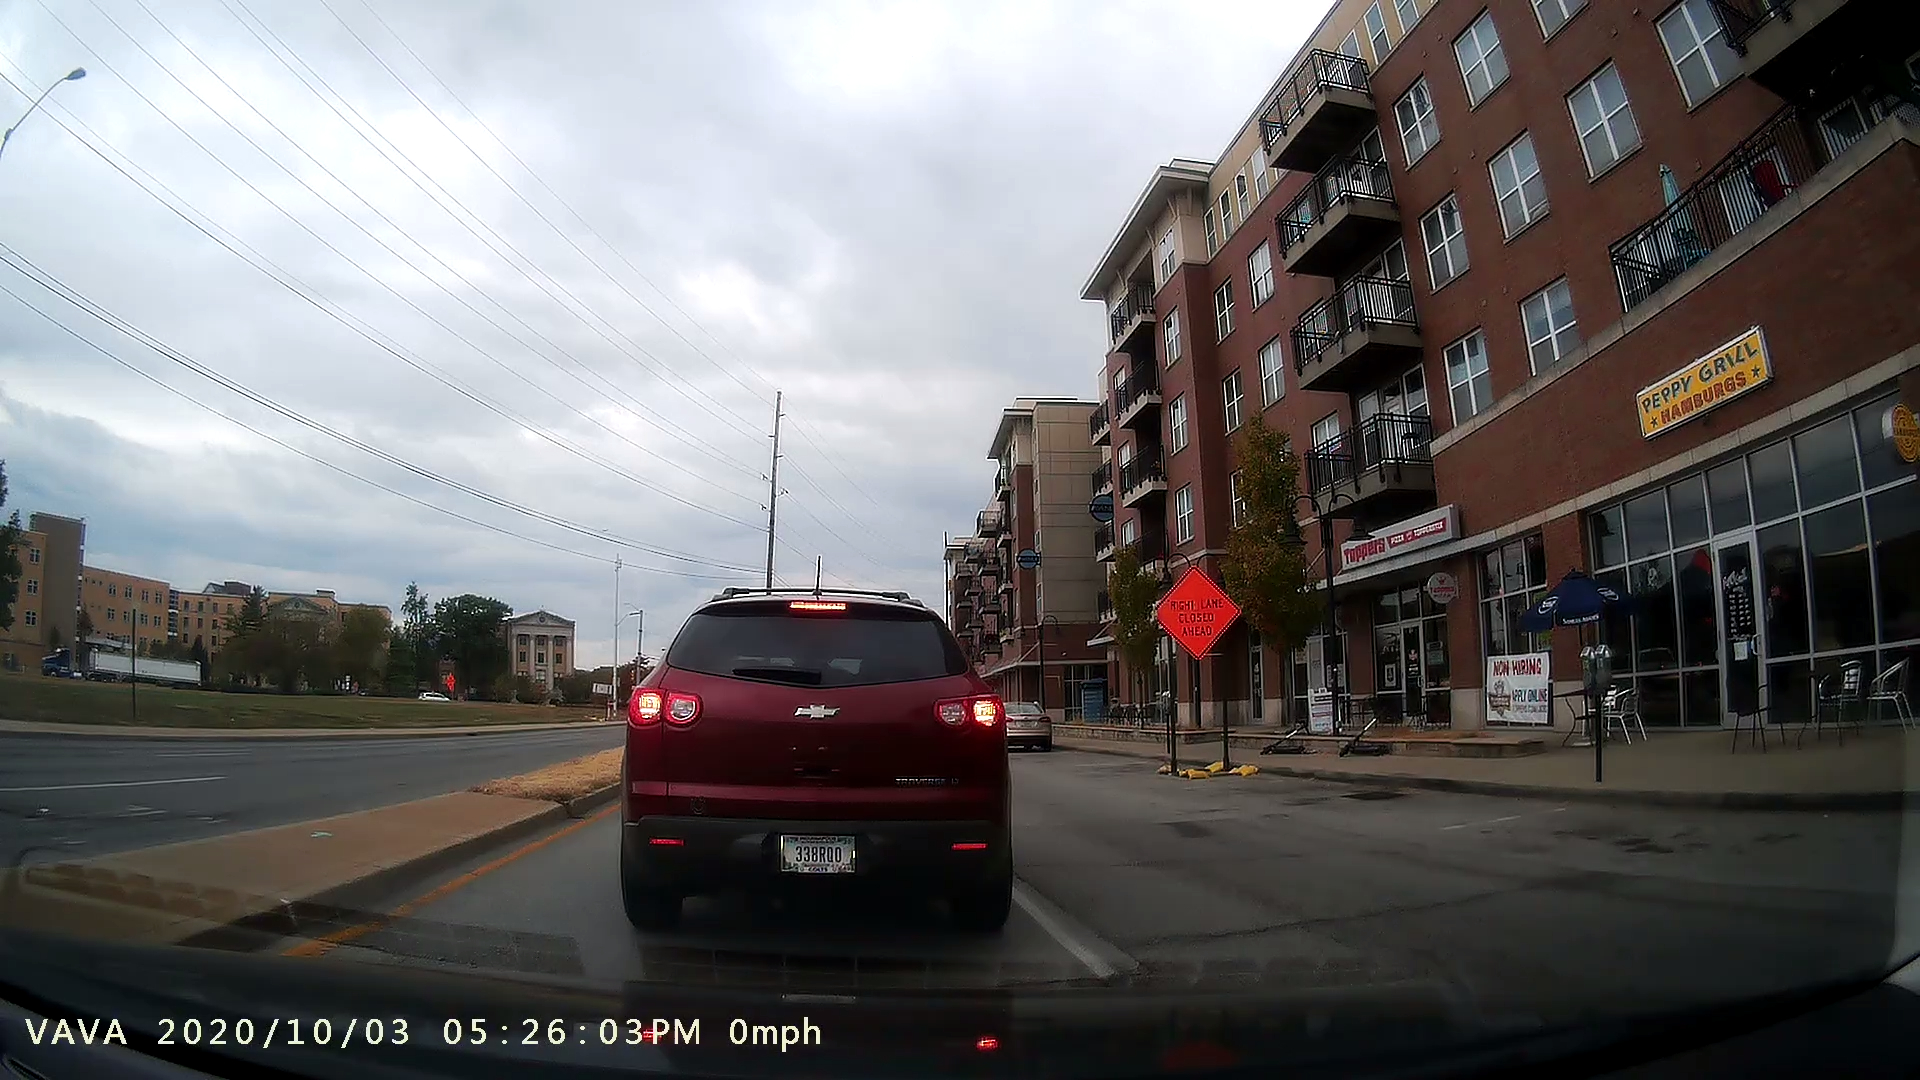ttcs_right_lane_closed_ahead: (1122, 546, 1271, 781)
